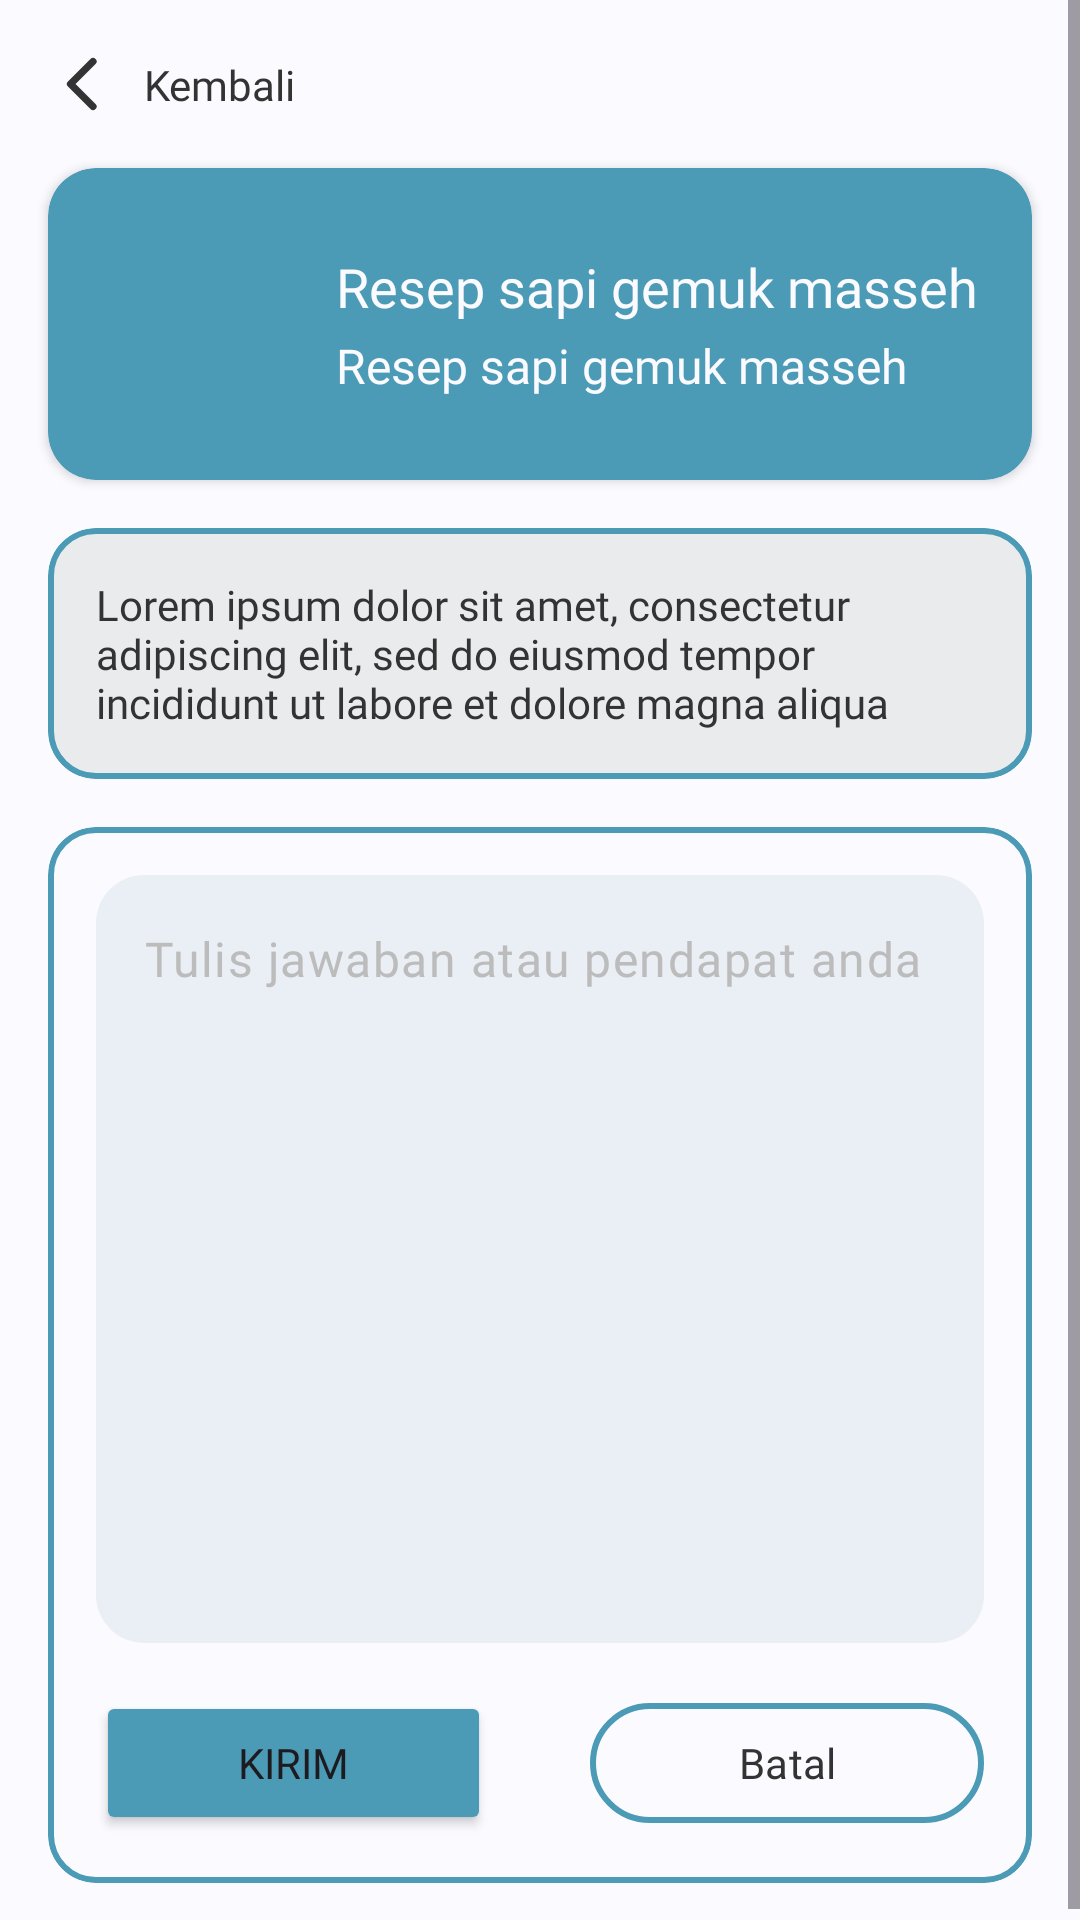

Icons on this 1080px×1920px Android screen, each with its box as (x1=x1, y1=y1, x2=x2, y2=y2):
caretleft: (x1=66, y1=57, x2=97, y2=111)
